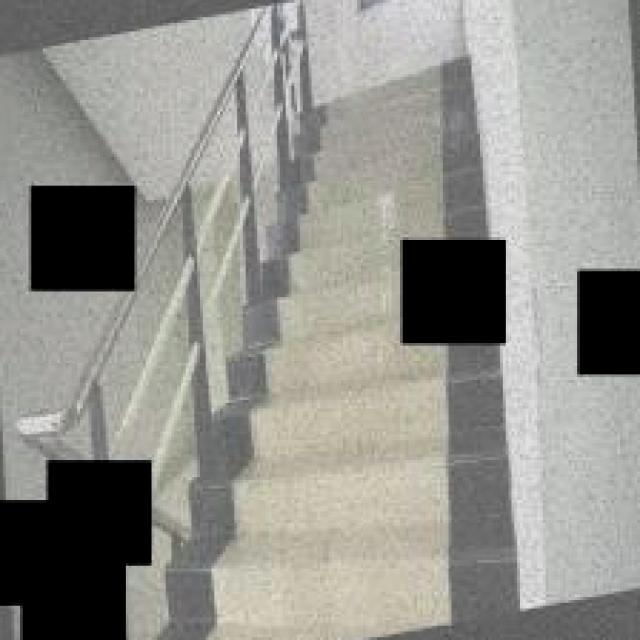upstair: (207, 355, 527, 640), (295, 73, 498, 230)
